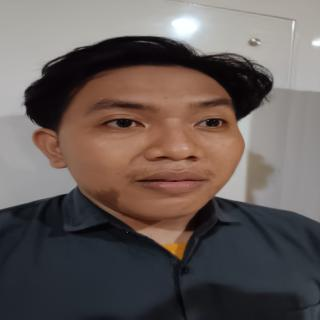Takut: (57, 52, 253, 228)
